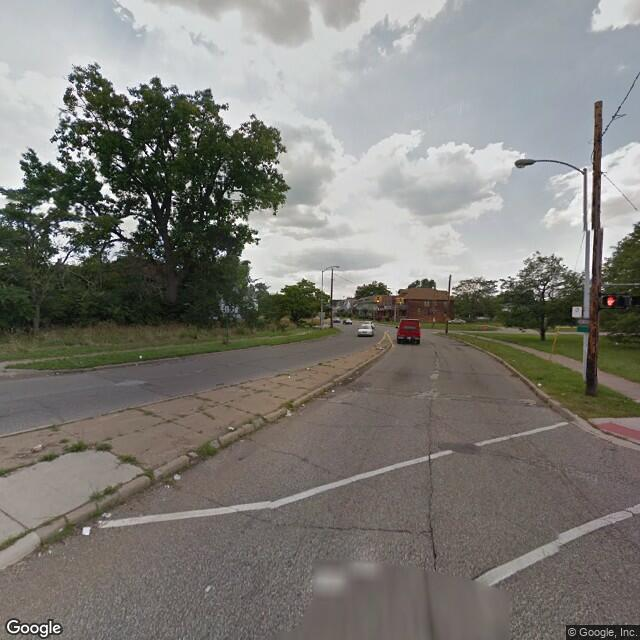litter: (78, 524, 98, 533), (225, 423, 237, 432), (172, 470, 182, 479), (162, 482, 174, 489), (331, 386, 338, 396), (284, 410, 294, 416), (535, 381, 543, 388), (286, 375, 295, 381), (100, 510, 110, 515), (46, 549, 55, 554), (561, 390, 566, 395), (137, 353, 144, 356)
